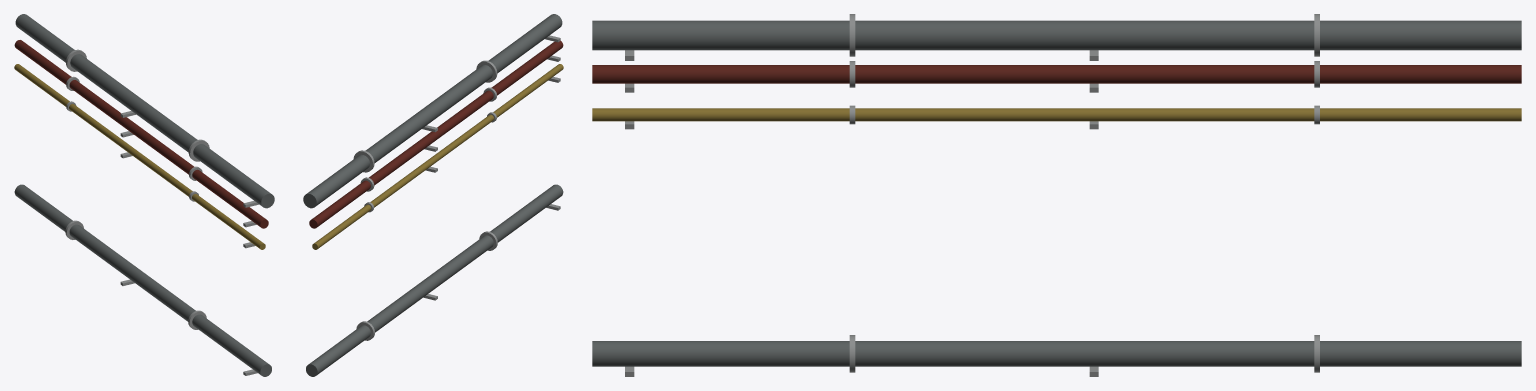
File: pipe_bundle_a.glb
The picture shows the model from 3 angles, left to right: view 1: azimuth 30°, elevation 25°; view 2: azimuth 150°, elevation 25°; view 3: azimuth 270°, elevation 25°; orthographic projection. The views are drawn at different scales.
Visible parts, largest first — view 1: rohr0, rohr2, rohr1, rohr3; view 2: rohr0, rohr2, rohr1, rohr3; view 3: rohr0, rohr2, rohr1, rohr3.
Boxes of the visible parts, bbox=[...] form: rohr0: bbox=[15, 14, 274, 208]; rohr2: bbox=[14, 184, 271, 376]; rohr1: bbox=[14, 40, 268, 228]; rohr3: bbox=[14, 64, 265, 249]; rohr0: bbox=[303, 14, 562, 208]; rohr2: bbox=[306, 184, 563, 376]; rohr1: bbox=[309, 40, 563, 228]; rohr3: bbox=[312, 64, 563, 249]; rohr0: bbox=[592, 20, 1521, 50]; rohr2: bbox=[592, 341, 1521, 366]; rohr1: bbox=[592, 65, 1521, 83]; rohr3: bbox=[592, 108, 1521, 121].
Size of the model in its own units: 0.276 by 2.12 by 5.
